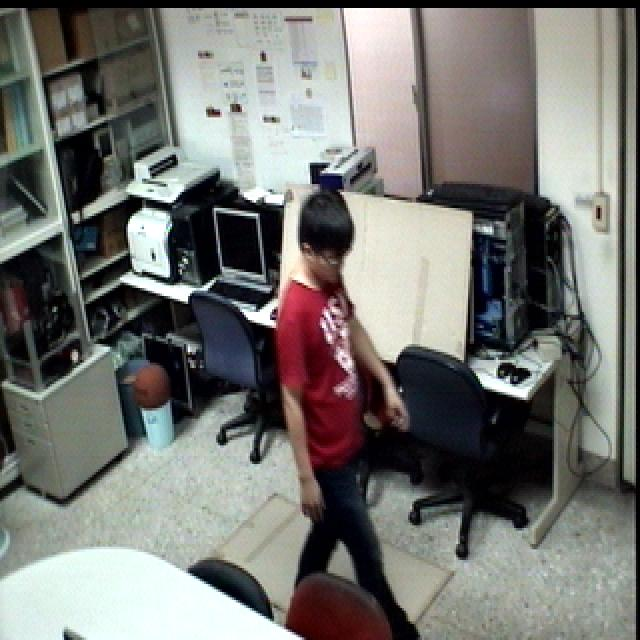stand: (265, 183, 419, 640)
